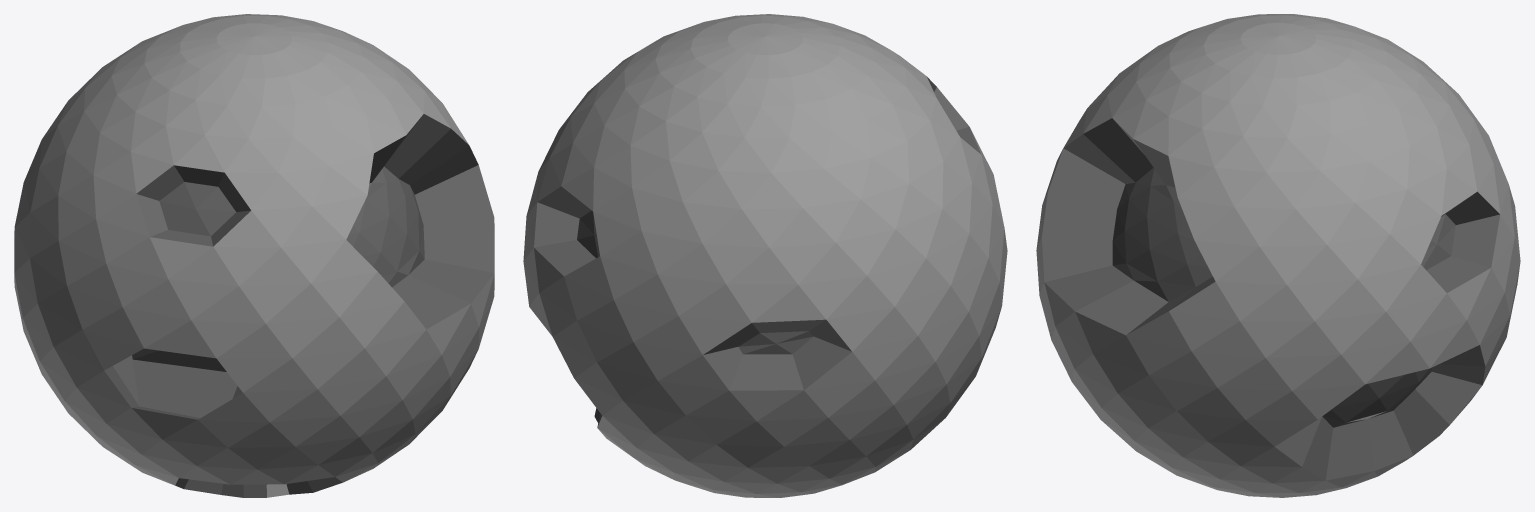
File: Planet_Grey_Model.fbx
3 views of the same model, side by side, from view 1: azimuth 30°, elevation 25°; view 2: azimuth 150°, elevation 25°; view 3: azimuth 270°, elevation 25° (orthographic).
Visible parts, largest first — view 1: pSphere6; view 2: pSphere6; view 3: pSphere6.
Part boxes in pixels (x1,y1,x2,y2): pSphere6: (14, 14, 494, 497); pSphere6: (523, 14, 1007, 497); pSphere6: (1036, 14, 1520, 497).
Size of the model in its own units: 57.97 by 58.05 by 57.97.
Materials: 1 (1 with a texture image).
